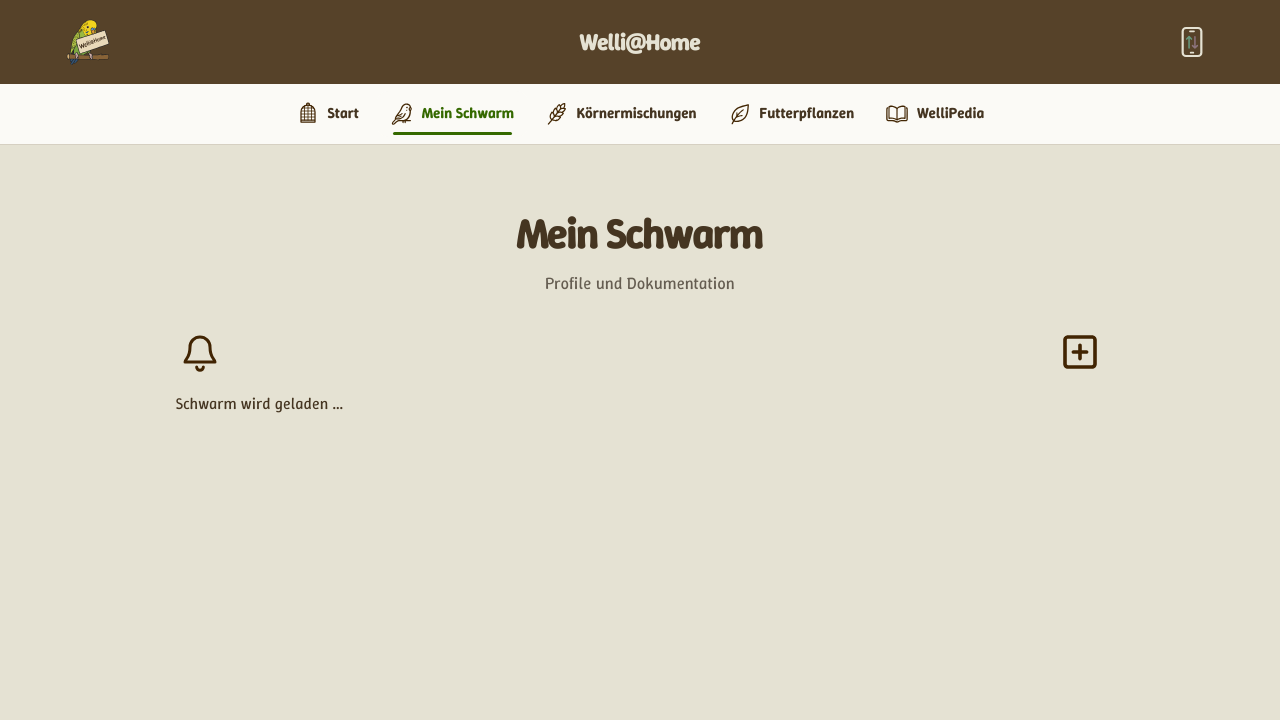
Test: Mein Schwarm – Benutzeroberfläche › öffnet Erinnerungen über den linksbündigen Aktionsbutton mit dem bereitgestellten SVG
What coordinates should you click on to do the following:
click the link named "Erinnerungen"
I would click on:
 (200, 352)
Its box is [180,332,220,372].
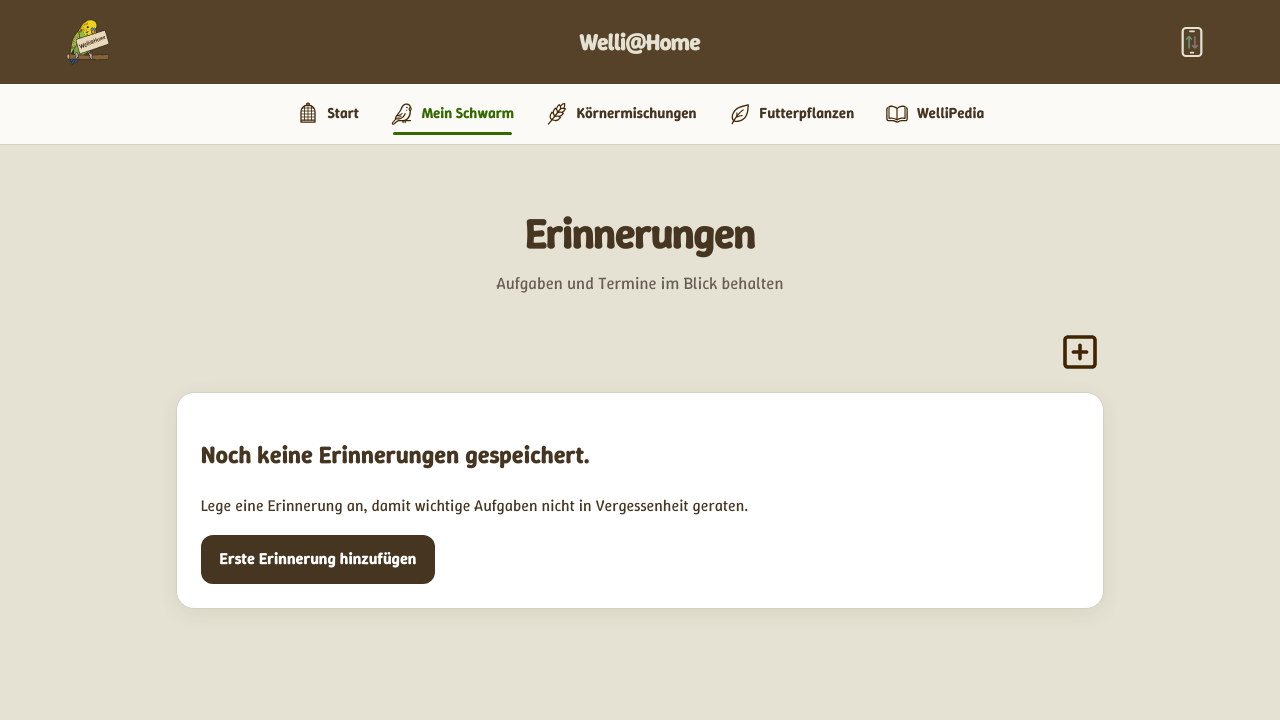
Result: the heading "Erinnerungen" is shown at [525,205,755,261]
